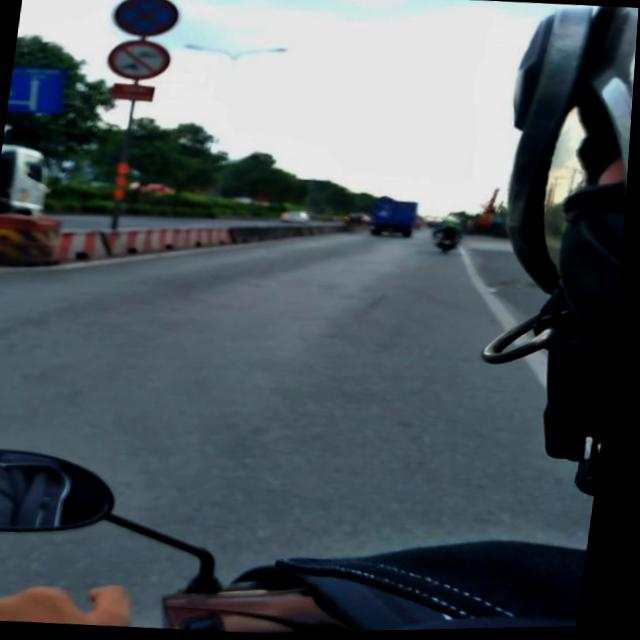Cam dung xe va do xe: (111, 0, 181, 38)
